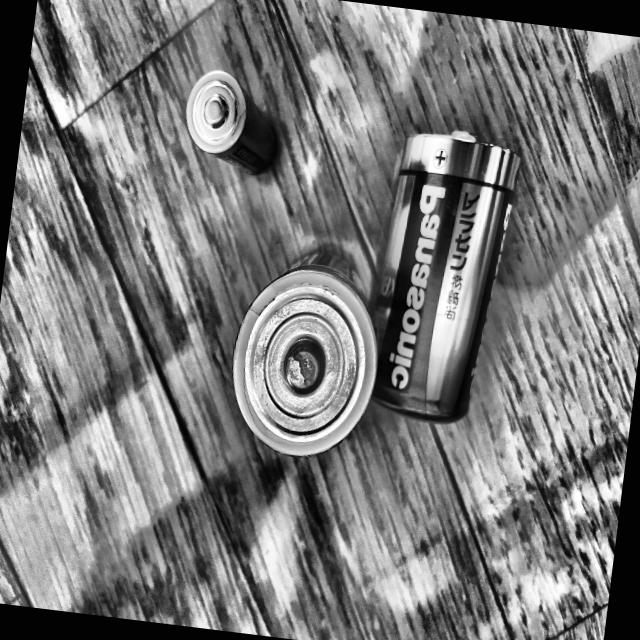drycell: (214, 232, 400, 476), (172, 66, 296, 194)
